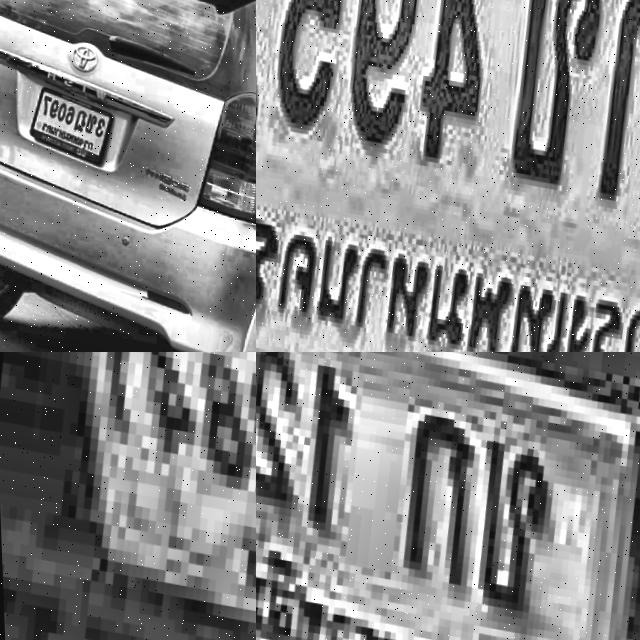license-plate: (256, 0, 640, 352), (256, 352, 640, 640), (10, 352, 256, 640), (22, 81, 118, 169)
